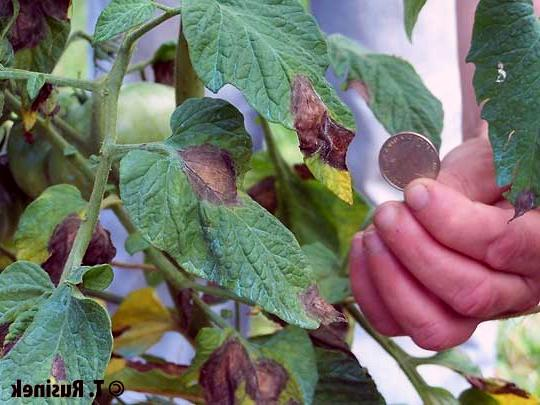Tomato leaf late blight: (105, 94, 353, 336), (180, 3, 370, 208), (0, 258, 125, 405)
